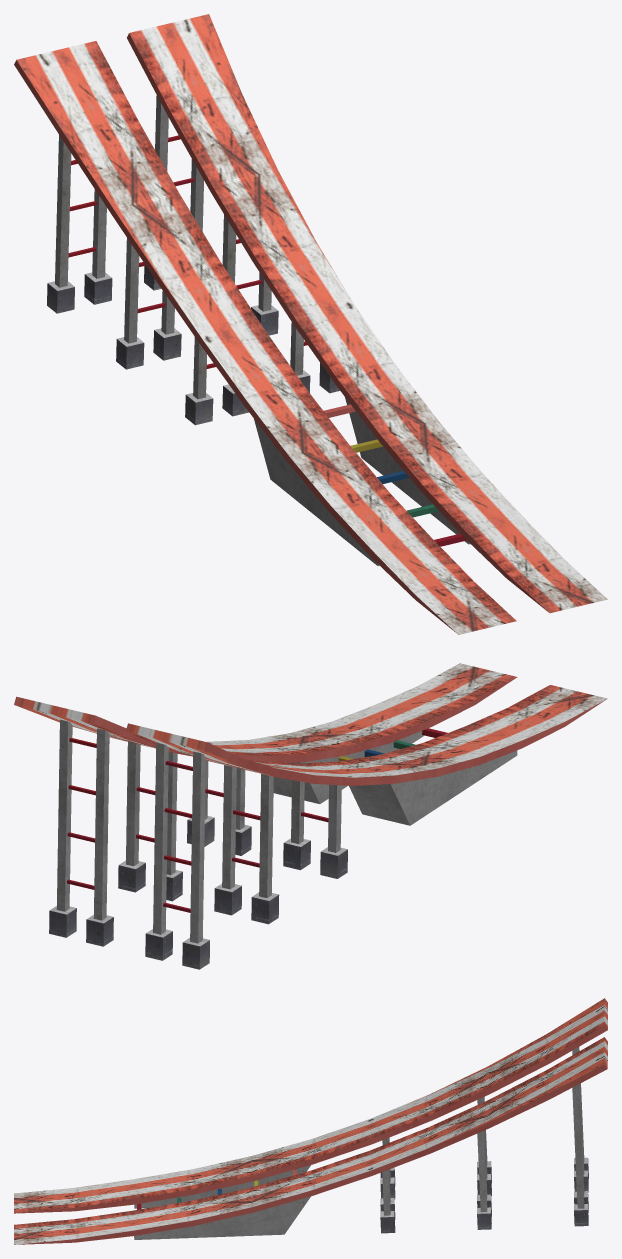
The model's file is state_parkour_ramp.glb.
3 views of the same model, one above another, from view 1: azimuth 30°, elevation 25°; view 2: azimuth 150°, elevation 25°; view 3: azimuth 270°, elevation 25° (orthographic). The views are drawn at different scales.
Visible parts, largest first — view 1: Ramp01_edit; view 2: Ramp01_edit; view 3: Ramp01_edit.
Boxes of the visible parts, x1,y1,x2,y2 form: Ramp01_edit: (14,14,607,634); Ramp01_edit: (14,663,607,969); Ramp01_edit: (14,998,607,1244).
Bounding box in the file's own units: 1.87 × 2.52 × 7.17.
Materials: 1 (1 with a texture image).
